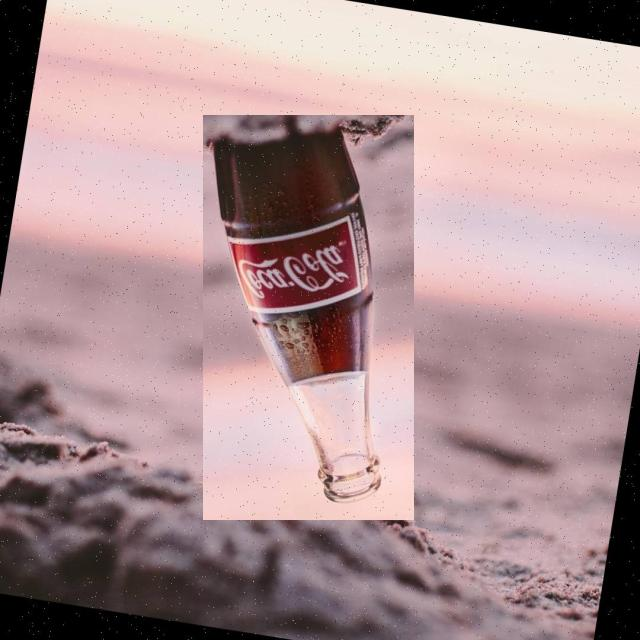coca-cola: (203, 115, 414, 520)
